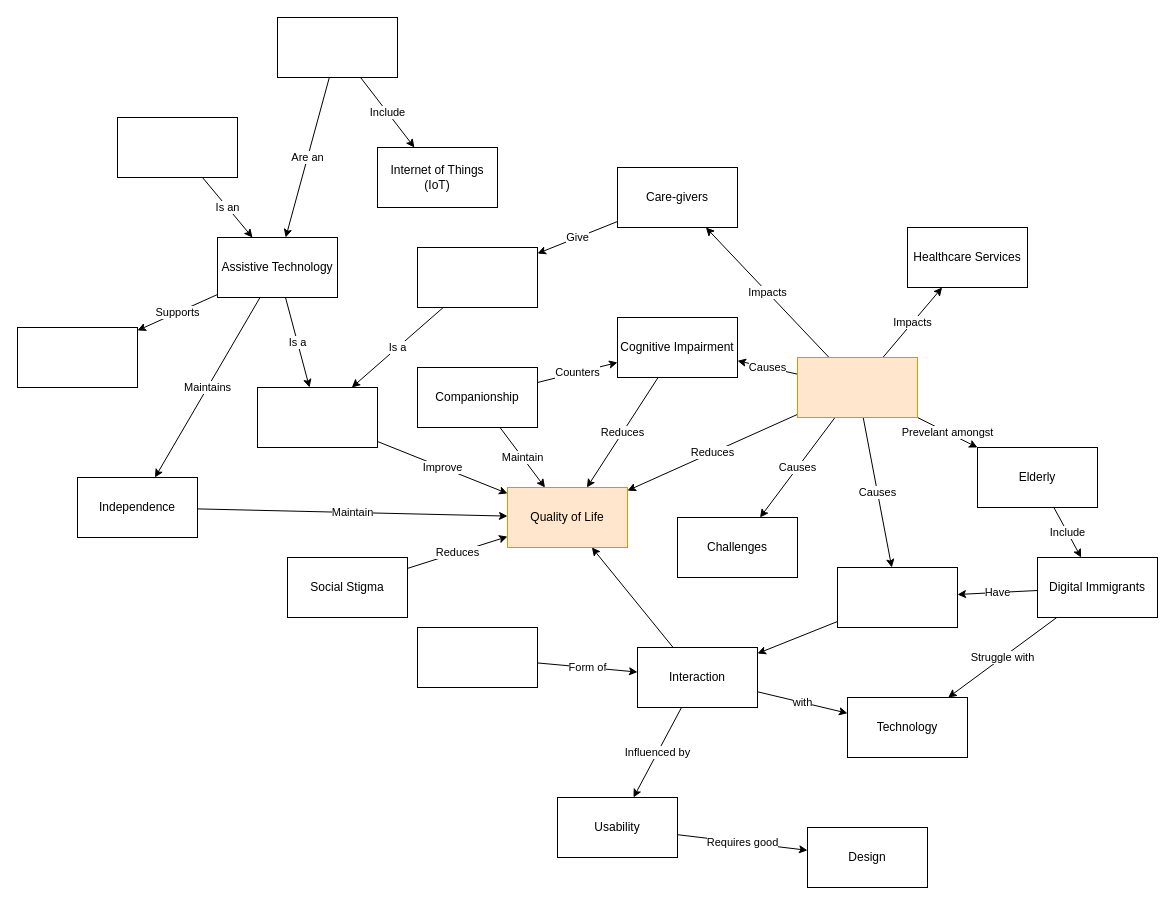
This 1175x905 diagram has some shape labels left out. Here are the shapes that lost their labels. From the top down, the centre of each, then its label:
At (337,47): "Smart Homes".
At (177,147): "Telecare".
At (477,277): "Pallitative Care".
At (77,357): "Activities of Daily Living (ADL)".
At (857,387): "Dementia".
At (317,417): "Solution".
At (897,597): "Difficulties".
At (477,657): "Voice Controls".
